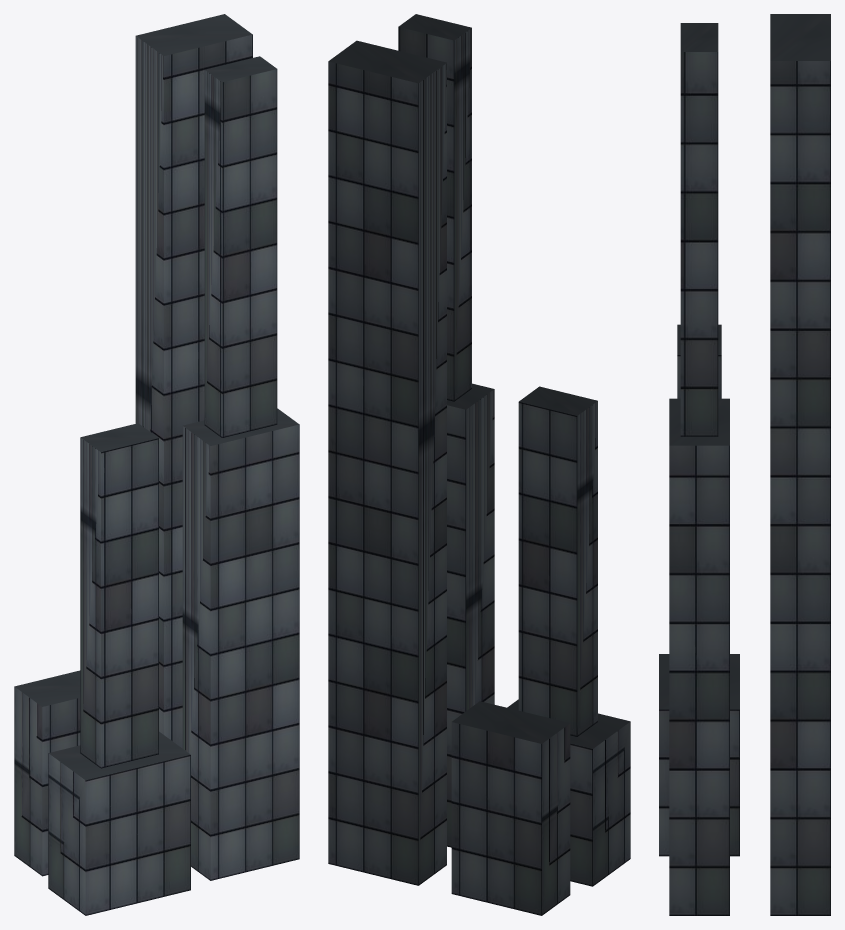
File: city_block_12345_6_21.glb
The picture shows the model from 3 angles, left to right: view 1: azimuth 30°, elevation 25°; view 2: azimuth 150°, elevation 25°; view 3: azimuth 270°, elevation 25°; orthographic projection. The views are drawn at different scales.
Visible parts, largest first — view 1: block_21; view 2: block_21; view 3: block_21.
Part boxes in pixels (x1,y1,x2,y2): block_21: (14, 14, 299, 915); block_21: (328, 14, 630, 915); block_21: (659, 14, 830, 915).
Bounding box in the file's own units: 4.05 × 14 × 2.55.
4 materials, 4 textured.
